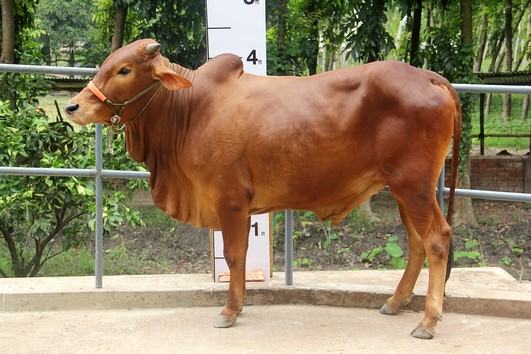cow: (60, 33, 463, 345)
